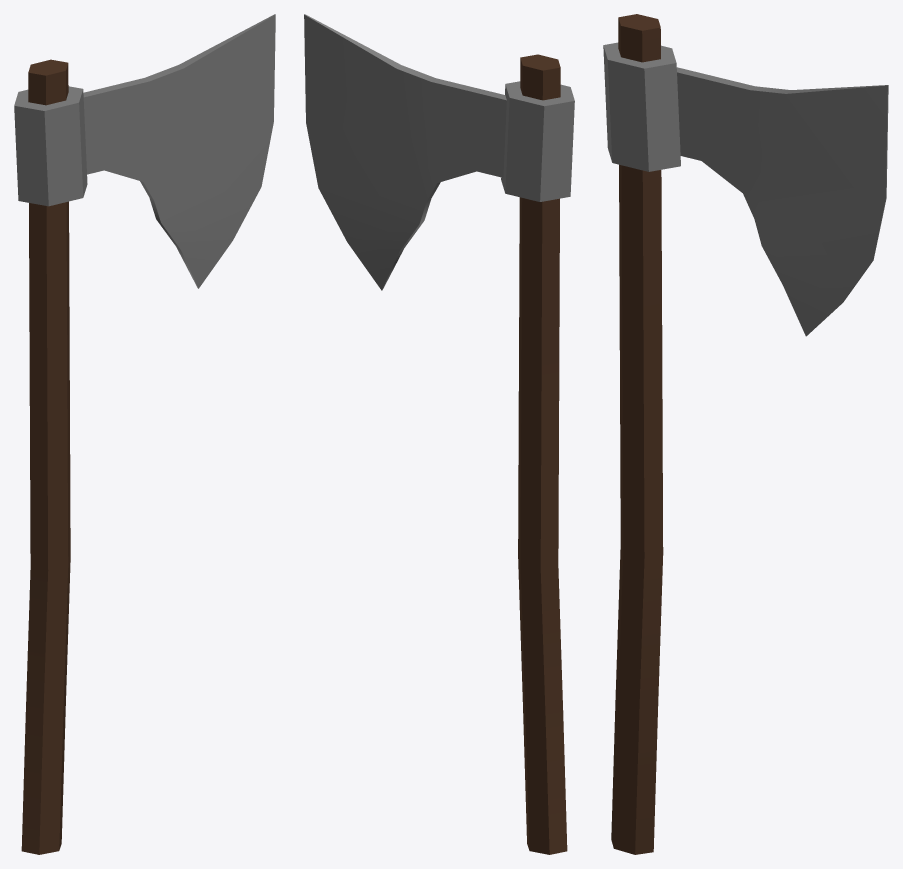
Rendered from SM_axe_greek.fbx.
The picture shows the model from 3 angles, left to right: view 1: azimuth 30°, elevation 25°; view 2: azimuth 150°, elevation 25°; view 3: azimuth 330°, elevation 25°; orthographic projection. The views are drawn at different scales.
Parts seen in each view (by area): view 1: Line006; view 2: Line006; view 3: Line006.
Part boxes in pixels (left/top/right/bottom): Line006: left=14, top=14, right=275, bottom=854; Line006: left=304, top=14, right=574, bottom=854; Line006: left=603, top=14, right=888, bottom=854.
Bounding box in the file's own units: 11.21 × 31.51 × 1.92.
